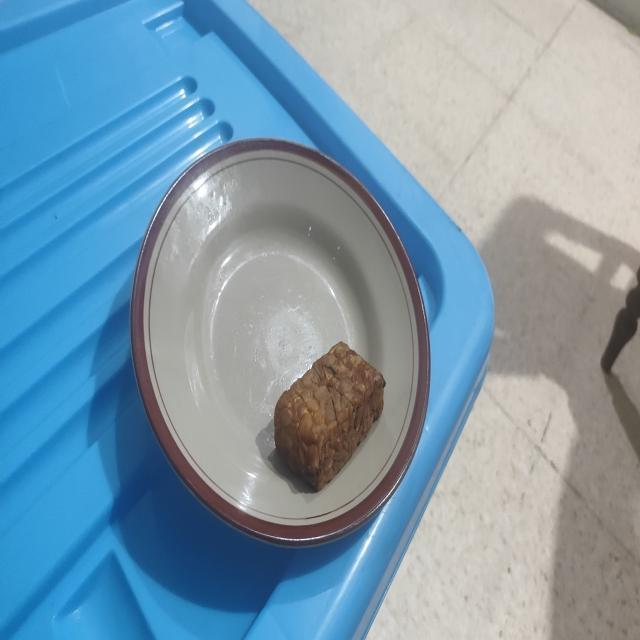tempe_goreng: (274, 342, 385, 491)
